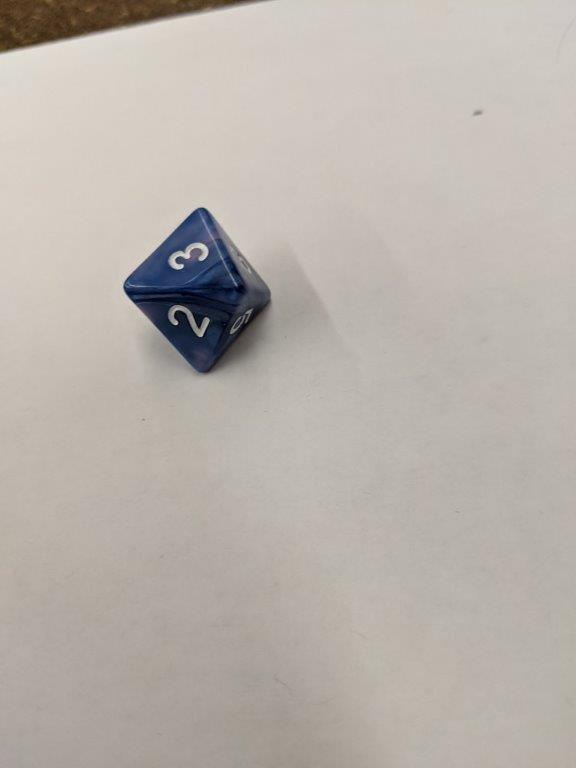d8-3: (123, 209, 269, 374)
